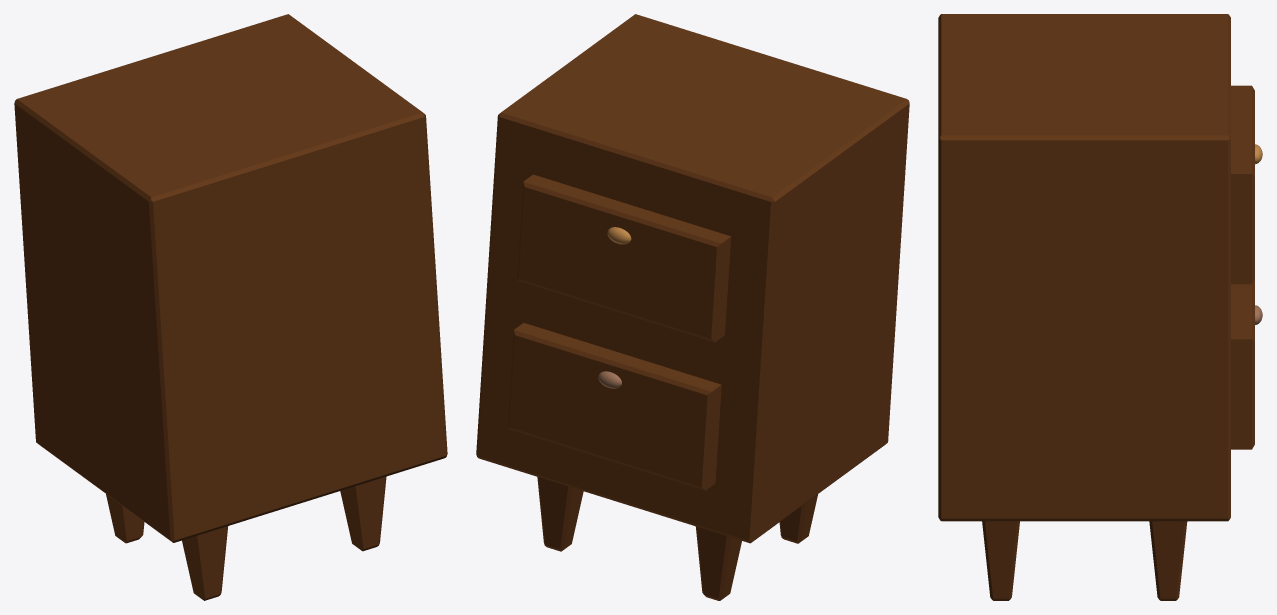
The model's file is Anim_Commode (1).fbx.
3 renders of one model, left to right at view 1: azimuth 30°, elevation 25°; view 2: azimuth 150°, elevation 25°; view 3: azimuth 270°, elevation 25°, orthographic. The views are drawn at different scales.
Visible parts, largest first — view 1: Cube; view 2: Cube; view 3: Cube.
Boxes of the visible parts, <box> form: Cube: <box>14,14,447,600</box>; Cube: <box>476,14,909,600</box>; Cube: <box>938,14,1262,600</box>.
Bounding box in the file's own units: 251 × 369 × 222.
